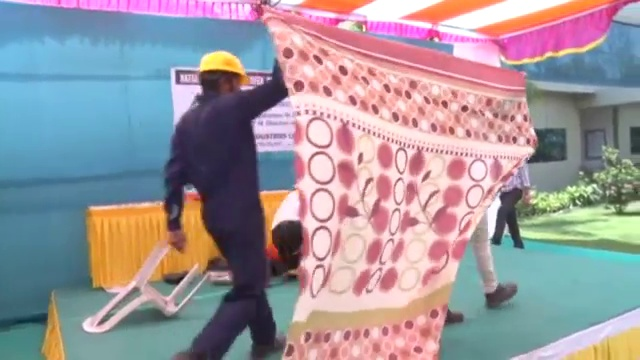helmet: (198, 48, 252, 84)
helmet_on: (196, 47, 253, 96)
person: (160, 47, 291, 360), (491, 159, 528, 252)
